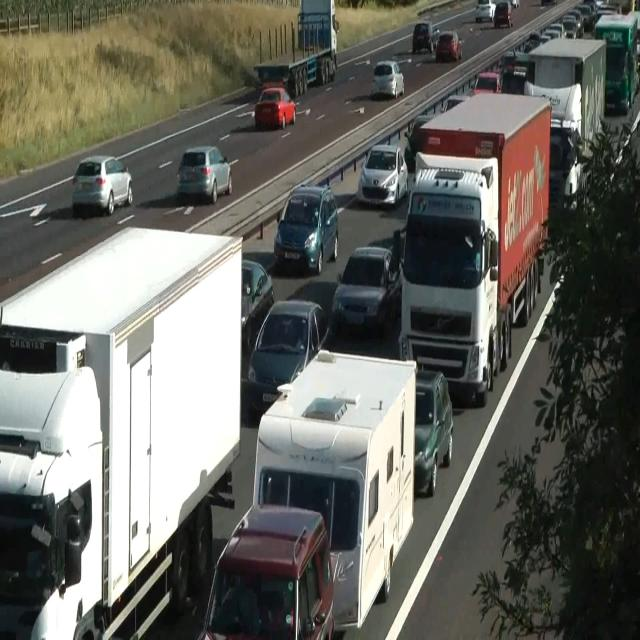bus: (246, 298, 330, 418), (331, 245, 401, 336), (413, 369, 453, 497), (71, 155, 133, 216), (357, 144, 409, 207), (176, 145, 232, 203), (240, 258, 274, 348), (548, 123, 580, 210), (253, 86, 296, 130), (371, 59, 404, 100), (405, 114, 431, 152), (412, 20, 440, 54), (435, 30, 463, 61), (472, 71, 501, 94), (561, 12, 584, 38), (493, 1, 513, 28), (575, 4, 595, 31), (474, 0, 496, 22), (441, 95, 465, 113), (542, 23, 566, 40), (553, 273, 565, 306), (540, 0, 556, 6), (509, 0, 519, 8)
car: (251, 347, 417, 630)
jeep: (197, 502, 335, 638), (274, 182, 338, 275)
minibus: (0, 225, 242, 639), (397, 91, 551, 406), (524, 36, 606, 210), (252, 0, 338, 99), (594, 9, 640, 114)
